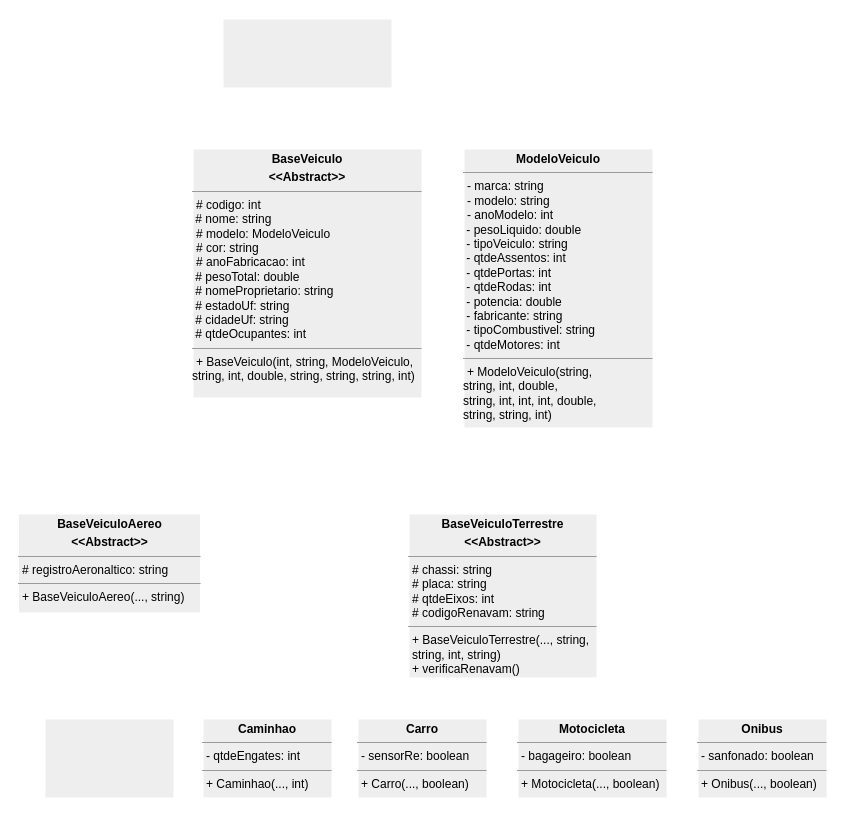
Image size: 846x816. Some labels were removed from this diagram. Here are the shapes that lost their labels. From the top down, the centre of each, then its label:
At pixel 307 53: "iImprimir <<interface>> + imprimir()".
At pixel 109 758: "Aviao - nomePiloto: string + Aviao(..., string)".
